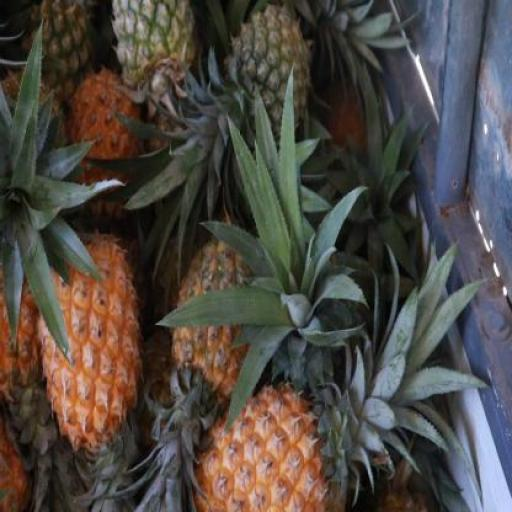Pineapple - v8 v1: (34, 231, 146, 457), (183, 383, 335, 512)
